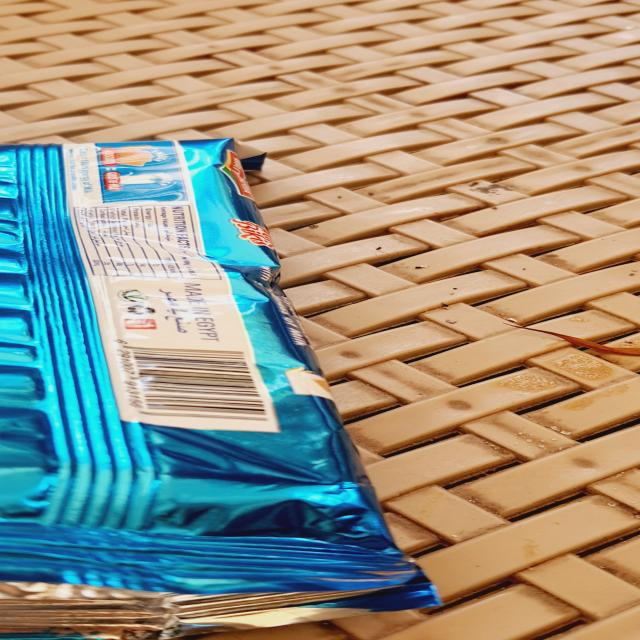Metal: (0, 136, 442, 640)
